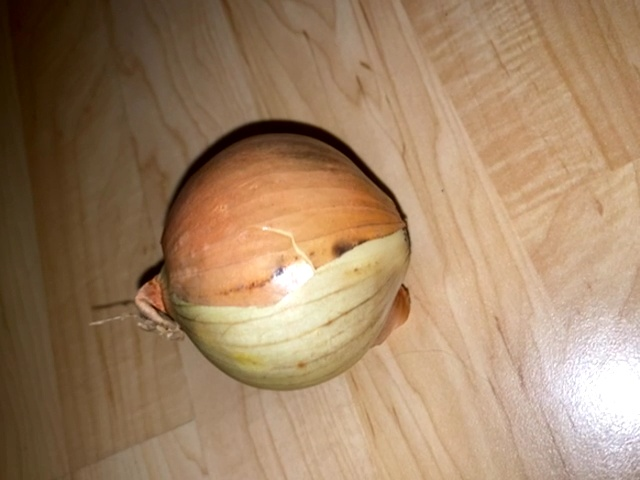onion: (87, 118, 422, 392)
